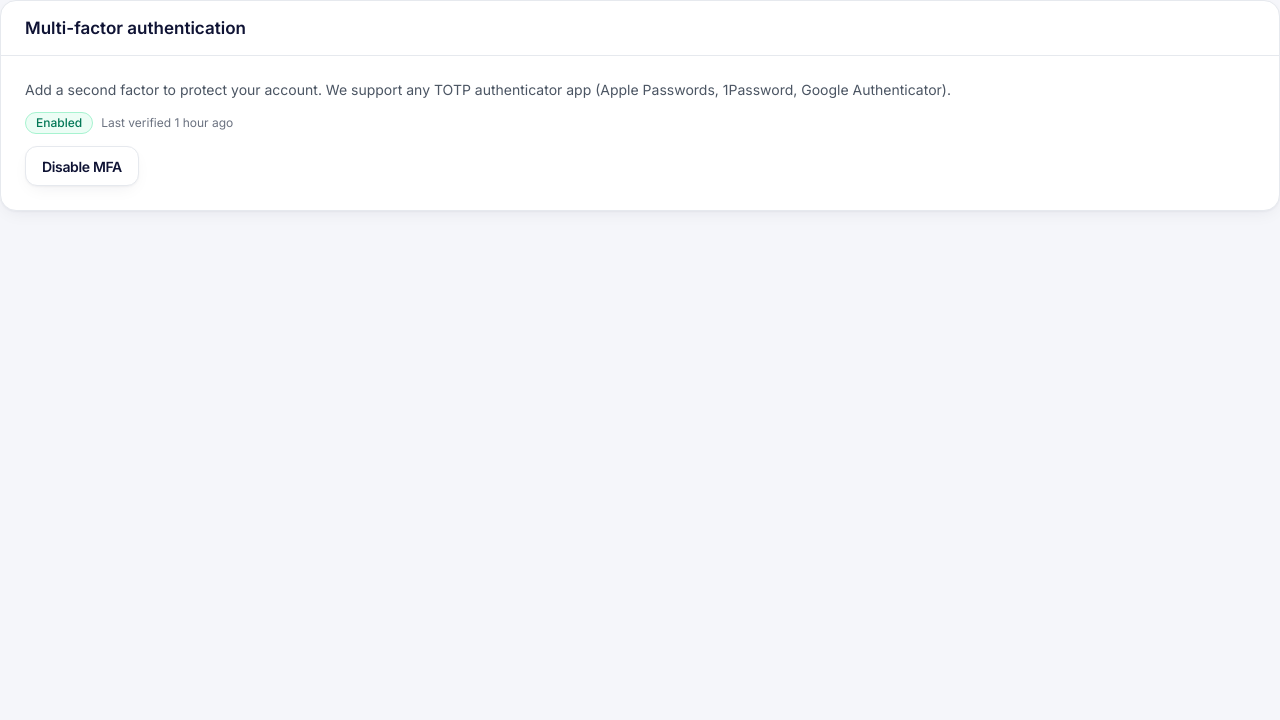
MfaCard — enrolled › opens the disable modal on CTA click
Expected: the text "Enabled" is shown, [25,112,93,134]
Click the button "Disable MFA": [82, 166] box [25,146,139,186]
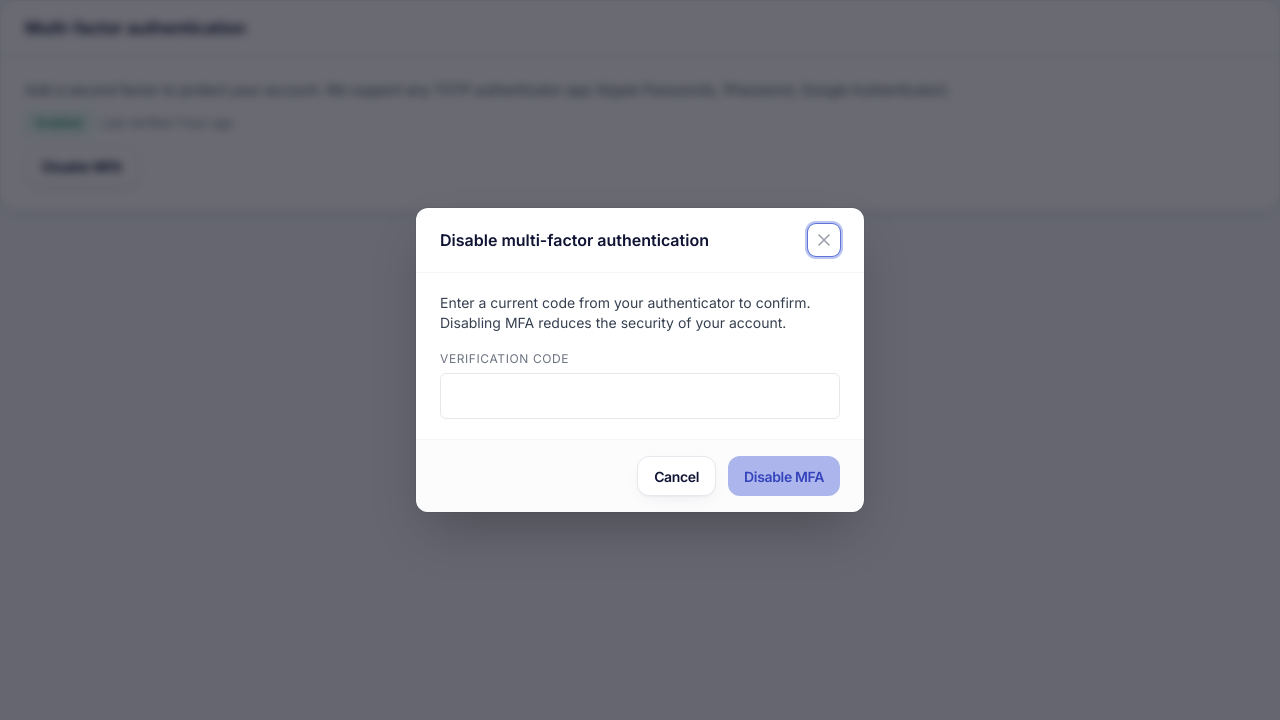
Now the heading "Disable multi-factor authentication" is shown, box [440,228,709,252]
